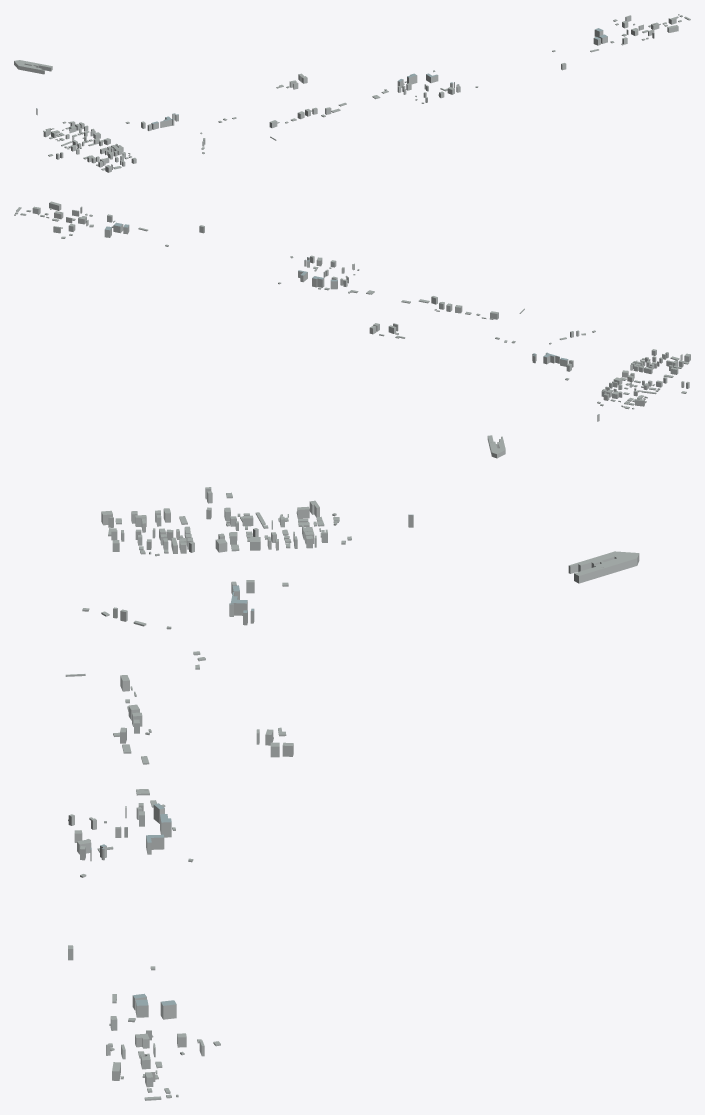
Rendered from far.glb.
The picture shows the model from 3 angles, top to bottom: view 1: azimuth 30°, elevation 25°; view 2: azimuth 150°, elevation 25°; view 3: azimuth 270°, elevation 25°; orthographic projection. The views are drawn at different scales.
Size of the model in its own units: 2046 by 23.8 by 818.
